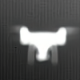plane: (12, 24, 79, 66)
